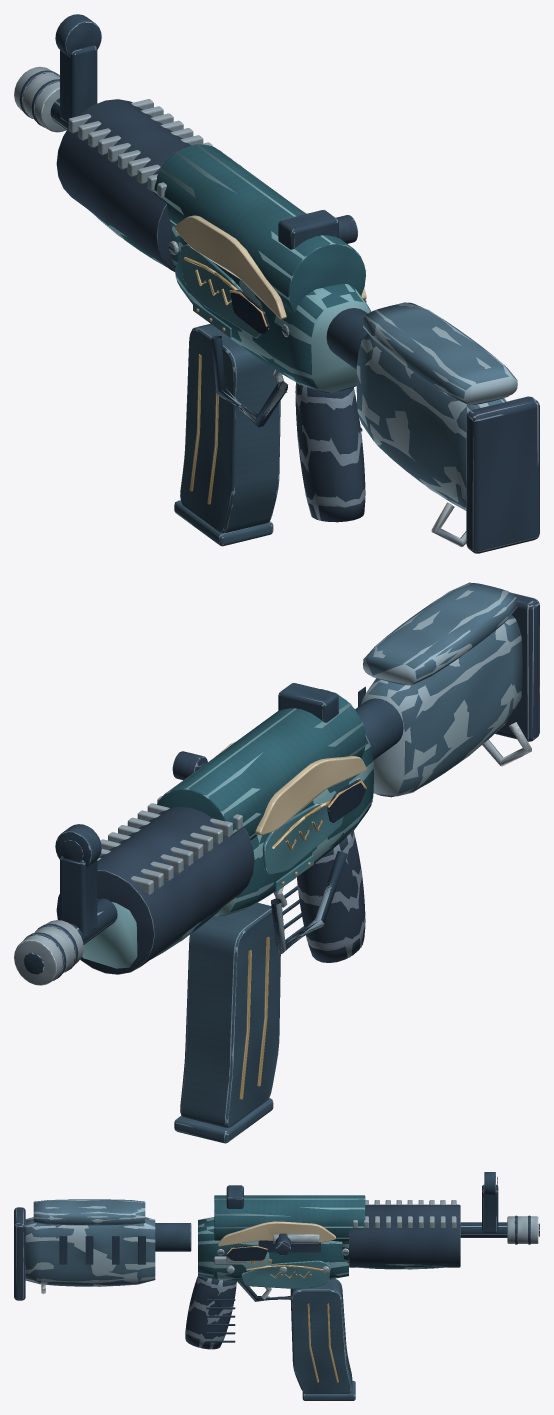
The model's file is anime-mp5.glb.
The picture shows the model from 3 angles, top to bottom: view 1: azimuth 30°, elevation 25°; view 2: azimuth 150°, elevation 25°; view 3: azimuth 270°, elevation 25°; orthographic projection. The views are drawn at different scales.
Visible parts, largest first — view 1: weapon_Polymer, weapon_Weapon finish / Parkerized steel, magazine_Magazine satin alloy, weapon_Weapon finish / Polymer, World paint, weapon_Parkerized steel, World hardware, weapon_Machined edges, weapon_Weapon finish / Ivory enamel, weapon_Inset blue ceramic, weapon_Recessed graphite mechanism, magazine_Etched brass detail; view 2: weapon_Polymer, magazine_Magazine satin alloy, weapon_Weapon finish / Polymer, weapon_Weapon finish / Parkerized steel, World paint, weapon_Parkerized steel, World hardware, weapon_Machined edges, weapon_Weapon finish / Ivory enamel, weapon_Inset blue ceramic, magazine_Etched brass detail, weapon_Recessed graphite mechanism; view 3: weapon_Polymer, weapon_Weapon finish / Polymer, weapon_Weapon finish / Parkerized steel, magazine_Magazine satin alloy, World paint, weapon_Parkerized steel, World hardware, weapon_Machined edges, weapon_Inset blue ceramic, weapon_Weapon finish / Ivory enamel, weapon_Recessed graphite mechanism, magazine_Etched brass detail (+2 smaller).
Part boxes in pixels (<box>): weapon_Polymer: <box>19,70,539,553</box>; weapon_Weapon finish / Parkerized steel: <box>95,144,371,392</box>; magazine_Magazine satin alloy: <box>174,323,280,546</box>; weapon_Weapon finish / Polymer: <box>356,302,517,510</box>; World paint: <box>89,144,517,510</box>; weapon_Parkerized steel: <box>50,14,367,431</box>; World hardware: <box>14,14,539,553</box>; weapon_Machined edges: <box>14,67,466,546</box>; weapon_Weapon finish / Ivory enamel: <box>175,209,366,319</box>; weapon_Inset blue ceramic: <box>180,244,260,338</box>; weapon_Recessed graphite mechanism: <box>231,290,365,334</box>; magazine_Etched brass detail: <box>189,354,218,504</box>; weapon_Polymer: <box>23,593,539,980</box>; magazine_Magazine satin alloy: <box>174,903,280,1143</box>; weapon_Weapon finish / Polymer: <box>359,583,522,797</box>; weapon_Weapon finish / Parkerized steel: <box>118,690,373,968</box>; World paint: <box>82,582,521,968</box>; weapon_Parkerized steel: <box>55,683,403,953</box>; World hardware: <box>14,592,539,1142</box>; weapon_Machined edges: <box>14,722,531,985</box>; weapon_Weapon finish / Ivory enamel: <box>216,741,366,835</box>; weapon_Inset blue ceramic: <box>262,801,343,891</box>; magazine_Etched brass detail: <box>239,936,269,1099</box>; weapon_Recessed graphite mechanism: <box>327,779,365,822</box>; weapon_Polymer: <box>14,1176,539,1349</box>; weapon_Weapon finish / Polymer: <box>25,1199,155,1286</box>; weapon_Weapon finish / Parkerized steel: <box>198,1195,446,1281</box>; magazine_Magazine satin alloy: <box>290,1278,355,1400</box>; World paint: <box>25,1198,447,1286</box>; weapon_Parkerized steel: <box>59,1172,507,1342</box>; World hardware: <box>14,1172,539,1400</box>; weapon_Machined edges: <box>41,1200,538,1293</box>; weapon_Inset blue ceramic: <box>241,1260,330,1289</box>; weapon_Weapon finish / Ivory enamel: <box>218,1221,335,1245</box>; weapon_Recessed graphite mechanism: <box>226,1245,267,1260</box>; magazine_Etched brass detail: <box>307,1304,338,1382</box>.
Size of the model in its own units: 0.1331 by 0.372 by 0.801.
12 materials, 10 textured.
